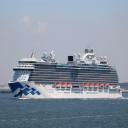cruises: (8, 49, 126, 103)
